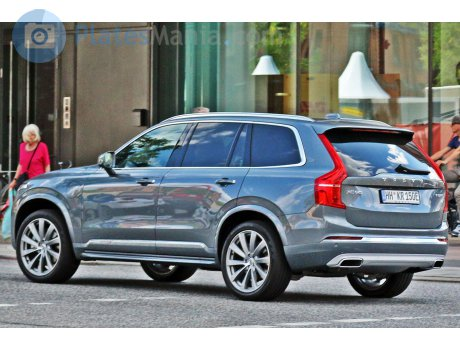License Plates: (381, 187, 431, 202)
